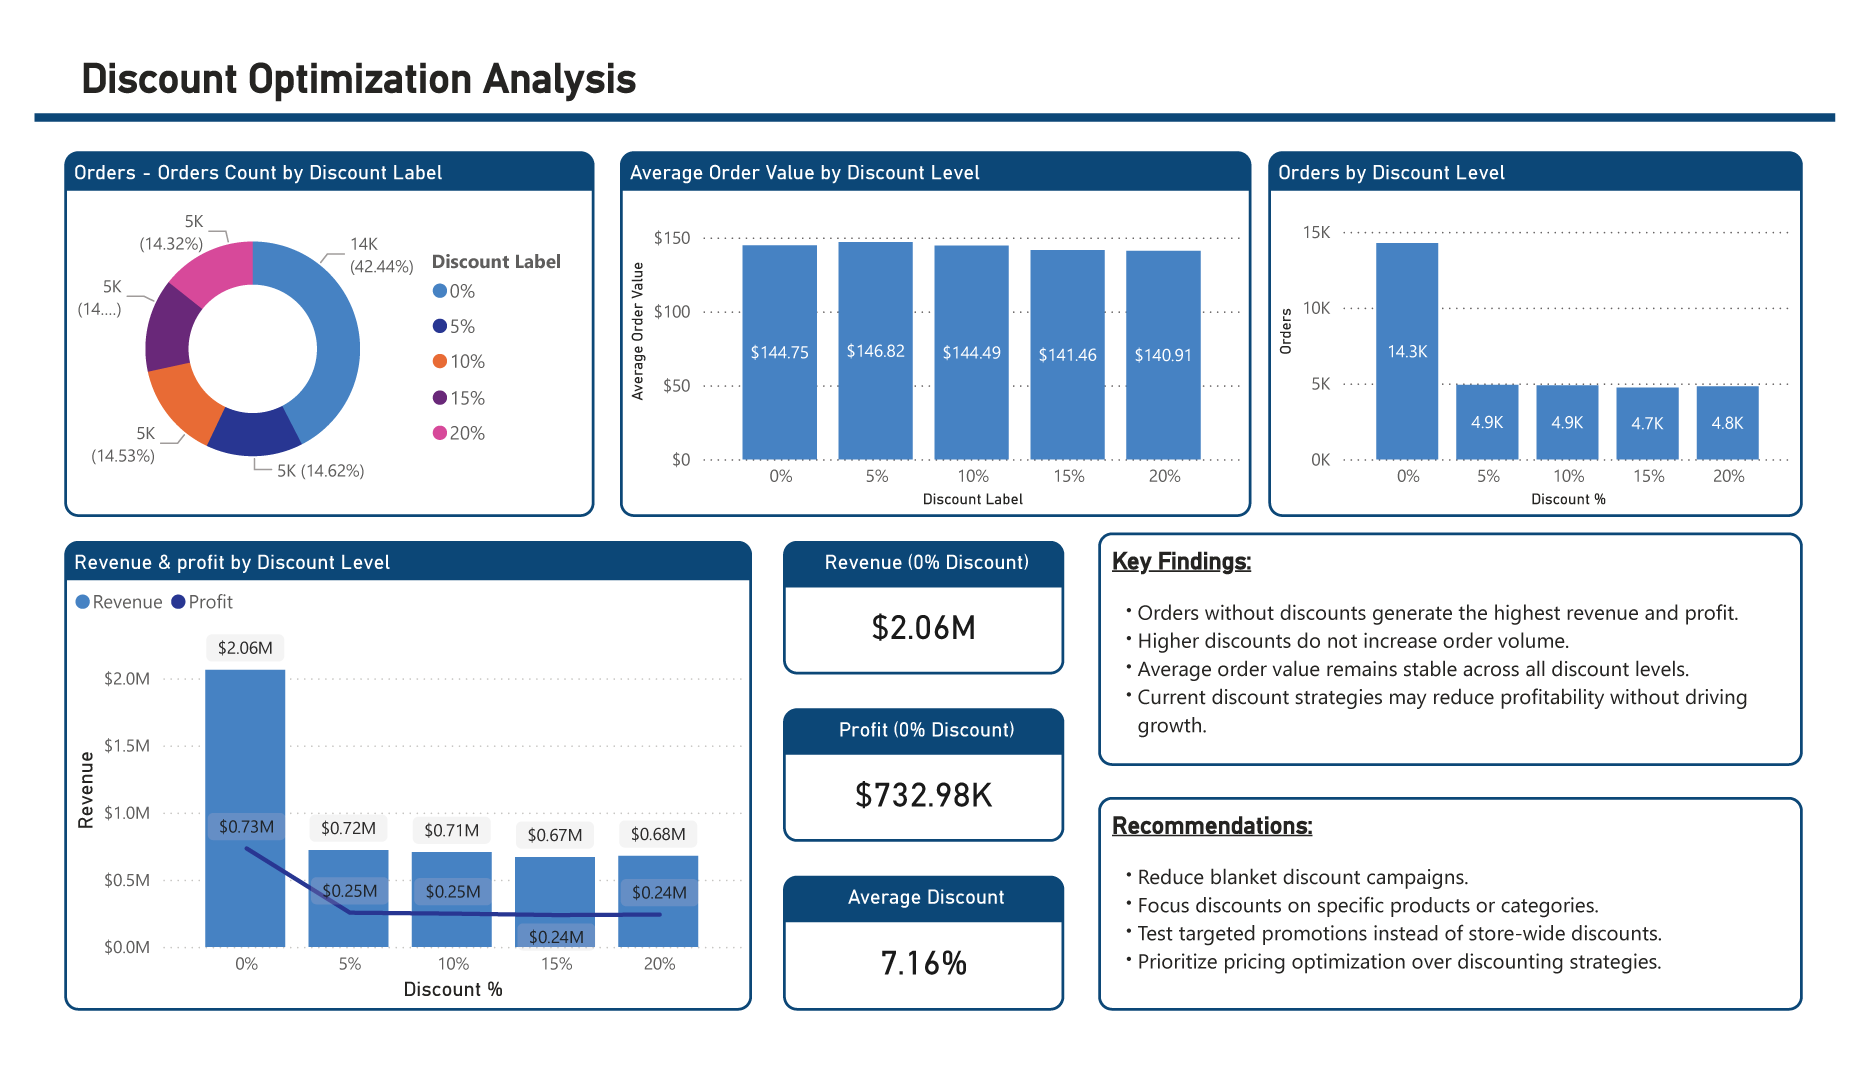

What the dashboard file says about the page in this screenshot:
{"tool":"powerbi","page":{"name":"3 - Discount Analysis","canvas":[1280,720],"ordinal":2},"visuals":[{"type":"textbox","box":[28.2,9.1,859.1,50],"z":0},{"type":"shape","box":[0,46,1280,26],"z":1000},{"type":"textbox","box":[756.4,353.6,500.9,166.4],"z":2000},{"type":"lineClusteredColumnComboChart","title":"Revenue & profit by Discount Level","fields":{"Y":["Measures_Table.KPI - Total_Revenue"],"Y2":["Measures_Table.KPI - Total_profit"],"Category":["orders.Discount Label"]},"box":[20.9,360,489.1,333.6],"z":3000},{"type":"clusteredColumnChart","title":"Orders by Discount Level","fields":{"Category":["orders.Discount Label"],"Y":["Measures_Table.Orders - Order Count"]},"box":[877.3,82.7,380,260],"z":4000},{"type":"clusteredColumnChart","title":"Average Order Value by Discount Level","fields":{"Category":["orders.Discount Label"],"Y":["Measures_Table.KPI - Average_Order_Value"]},"box":[416.4,82.7,448.2,260],"z":5000},{"type":"textbox","box":[756.4,541.8,500.9,151.8],"z":6000},{"type":"donutChart","fields":{"Category":["orders.Discount Label"],"Y":["Measures_Table.Orders - Orders Count"]},"box":[21,83,377,260],"z":7000},{"type":"card","title":"Revenue (0% Discount)","fields":{"Values":["Measures_Table.Orders - Revenue Without Discount"]},"box":[531.8,360,200,95],"z":8000},{"type":"card","title":"Profit (0% Discount)","fields":{"Values":["Measures_Table.Orders - Profit without Discount"]},"box":[531.8,479.1,200,95],"z":9000},{"type":"card","title":"Average Discount","fields":{"Values":["Measures_Table.Pricing - Average Discount"]},"box":[531.8,598.2,200,95.5],"z":10000}]}

Visuals, with their boxes in screenshot pixels (x1, y1, x2, y2), scaled from the page's 1280x720 canvas onto the 1868x1080 screenshot:
textbox: [left=41, top=14, right=1295, bottom=89]
shape: [left=0, top=69, right=1867, bottom=108]
textbox: [left=1104, top=530, right=1835, bottom=780]
"Revenue & profit by Discount Level" lineClusteredColumnComboChart: [left=31, top=540, right=744, bottom=1040]
"Orders by Discount Level" clusteredColumnChart: [left=1280, top=124, right=1835, bottom=514]
"Average Order Value by Discount Level" clusteredColumnChart: [left=608, top=124, right=1262, bottom=514]
textbox: [left=1104, top=813, right=1835, bottom=1040]
donutChart - orders.Discount Label x Measures_Table.Orders - Orders Count: [left=31, top=124, right=581, bottom=514]
"Revenue (0% Discount)" card: [left=776, top=540, right=1068, bottom=682]
"Profit (0% Discount)" card: [left=776, top=719, right=1068, bottom=861]
"Average Discount" card: [left=776, top=897, right=1068, bottom=1041]
